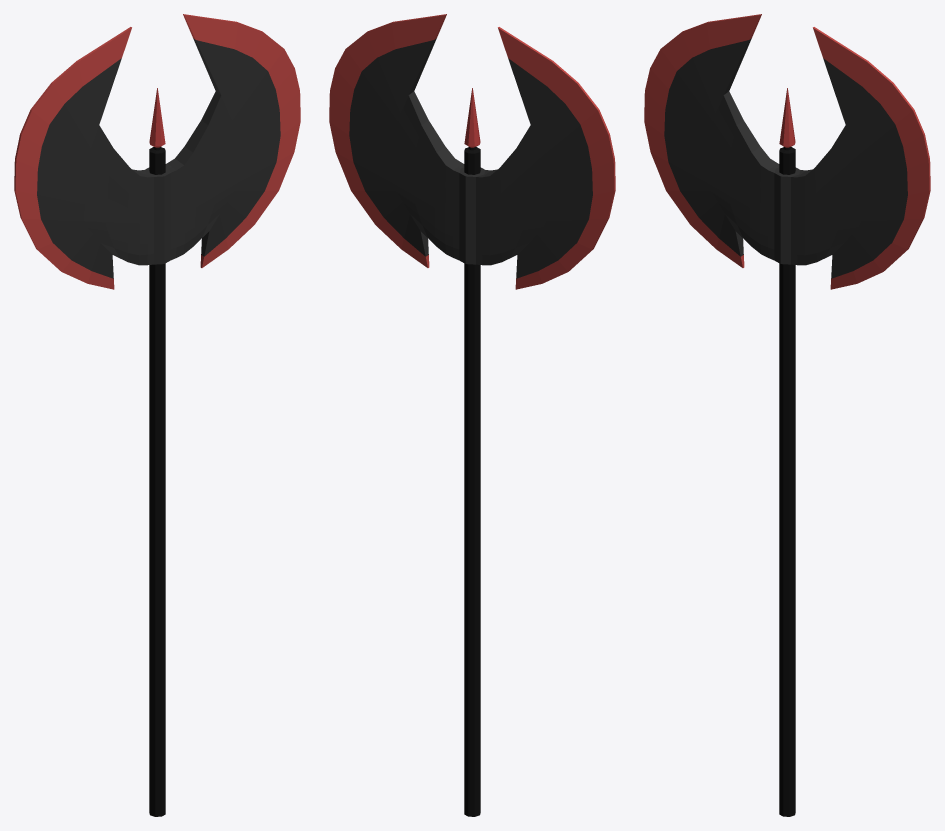
Rendered from two_handed_axe_5.fbx.
The picture shows the model from 3 angles, left to right: view 1: azimuth 30°, elevation 25°; view 2: azimuth 150°, elevation 25°; view 3: azimuth 330°, elevation 25°; orthographic projection.
Parts seen in each view (by area): view 1: two_handed_axe_5; view 2: two_handed_axe_5; view 3: two_handed_axe_5.
Part boxes in pixels (box(x1,y1,x2,y2)): two_handed_axe_5: box(14, 14, 300, 816); two_handed_axe_5: box(329, 14, 615, 816); two_handed_axe_5: box(644, 14, 930, 816).
Bounding box in the file's own units: 0.7371 × 1.96 × 0.0607.
1 material, 1 textured.
